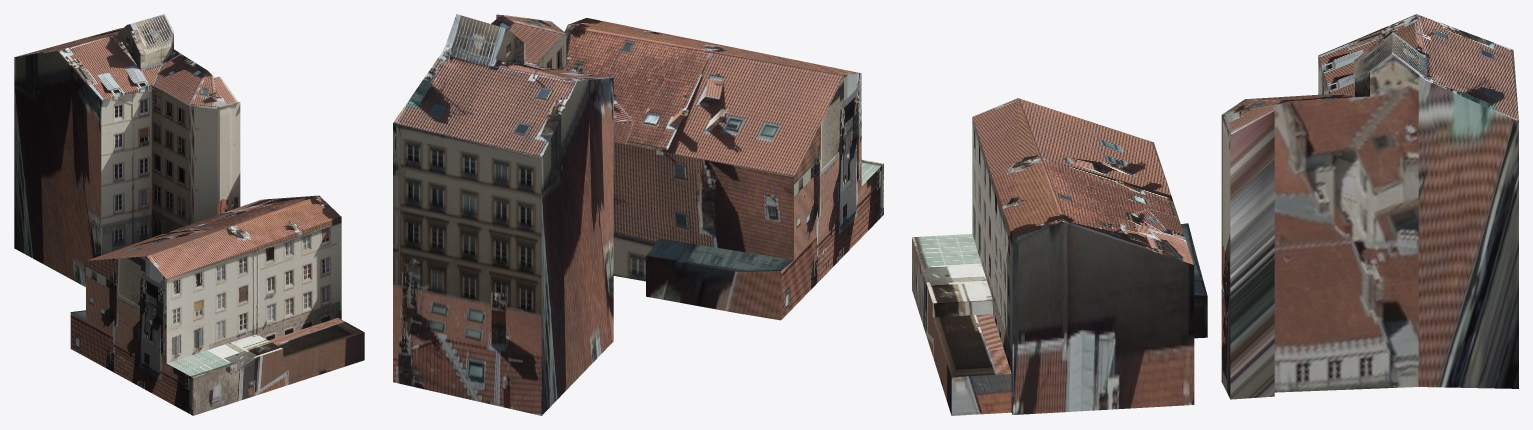
The picture shows the model from 3 angles, left to right: view 1: azimuth 30°, elevation 25°; view 2: azimuth 150°, elevation 25°; view 3: azimuth 270°, elevation 25°; orthographic projection. The views are drawn at different scales.
Visible parts, largest first — view 1: Z_UP; view 2: Z_UP; view 3: Z_UP.
Boxes of the visible parts, <box> form: Z_UP: <box>14,14,364,415</box>; Z_UP: <box>393,14,883,415</box>; Z_UP: <box>912,14,1518,415</box>.
Bounding box in the file's own units: 27.04 × 29.72 × 48.96.
Materials: 2 (1 with a texture image).
